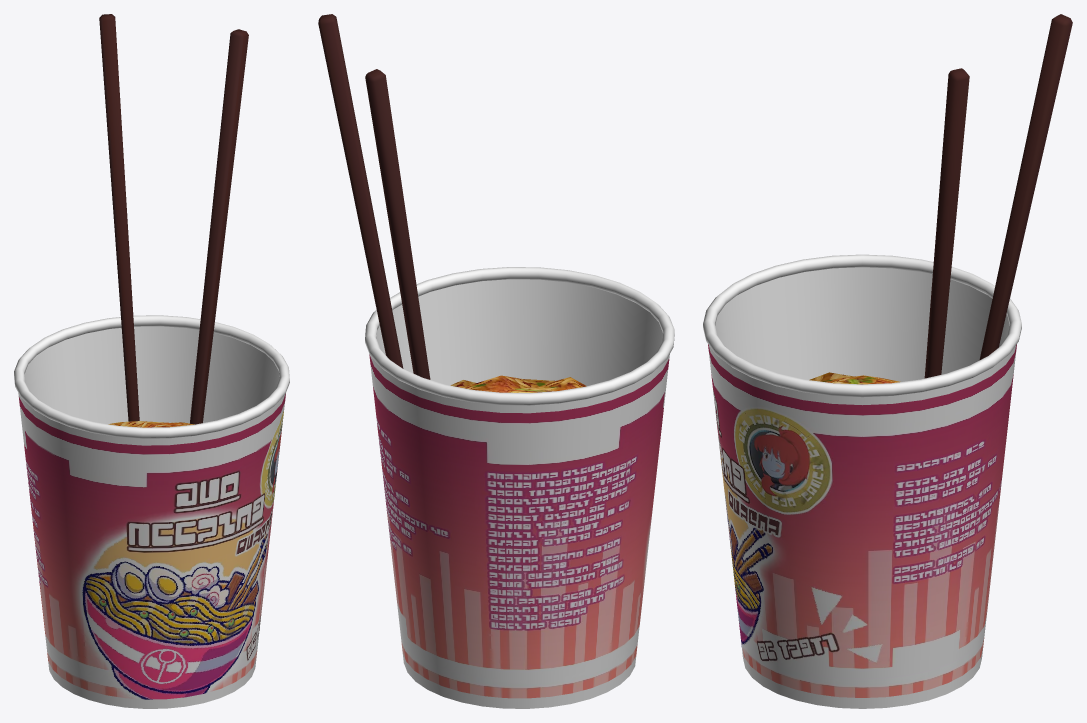
File: noodles.glb
3 views of the same model, side by side, from view 1: azimuth 30°, elevation 25°; view 2: azimuth 150°, elevation 25°; view 3: azimuth 270°, elevation 25° (orthographic). The views are drawn at different scales.
Parts seen in each view (by area): view 1: Tau Noodles_Greater Noodles_0; view 2: Tau Noodles_Greater Noodles_0; view 3: Tau Noodles_Greater Noodles_0.
Boxes of the visible parts, <box> form: Tau Noodles_Greater Noodles_0: <box>14,14,289,708</box>; Tau Noodles_Greater Noodles_0: <box>318,14,674,708</box>; Tau Noodles_Greater Noodles_0: <box>703,14,1072,708</box>.
Size of the model in its own units: 0.147 by 0.3151 by 0.1587.
1 material, 1 textured.
